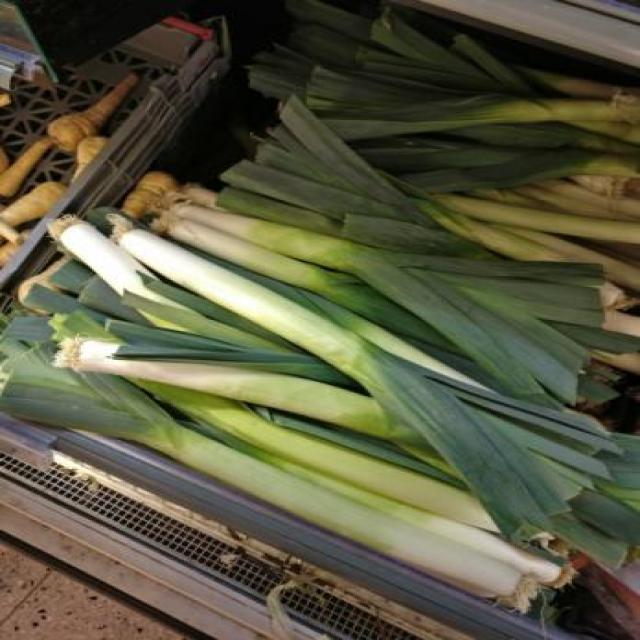leek: (65, 210, 598, 520)
